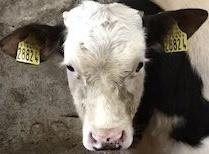muzzles: (78, 125, 136, 152)
